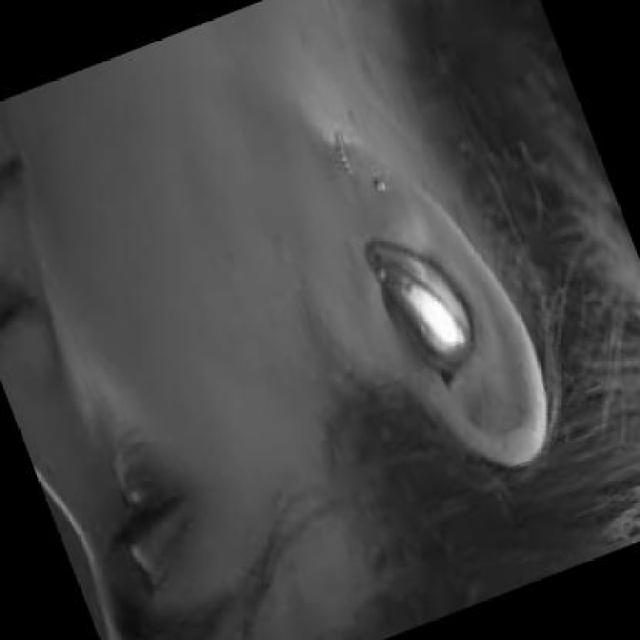earphone: (328, 195, 477, 393)
